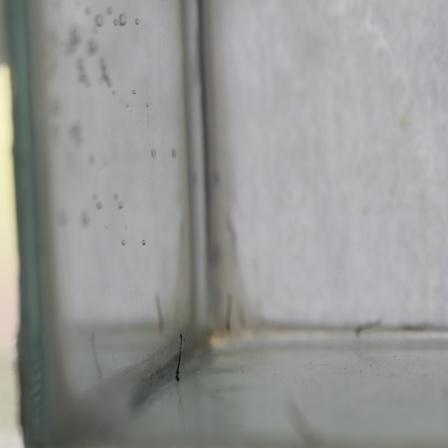Jentik-Nyamuk: (171, 329, 188, 386)
